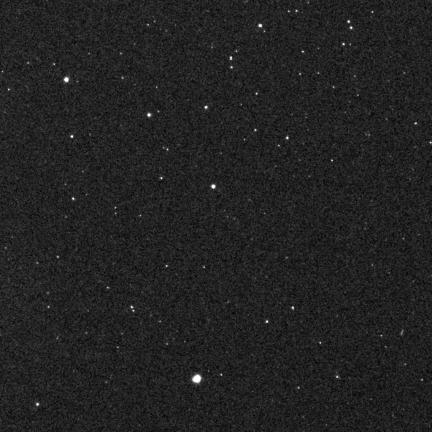blob: (211, 184, 216, 189)
